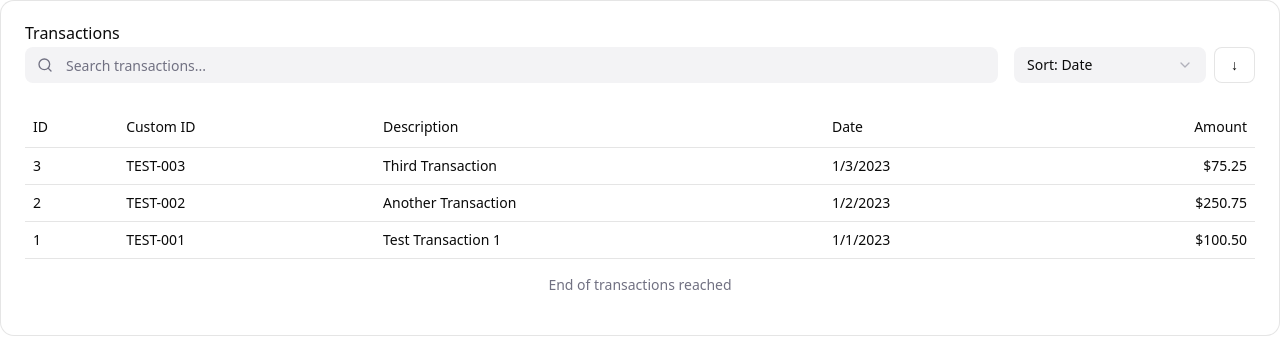
Scenario: TransactionTable › shows "no matches" message when search yields no results
Type "nonexistent" into the field with placeholder "Search transactions..." at (512, 65), box [25,47,998,83]
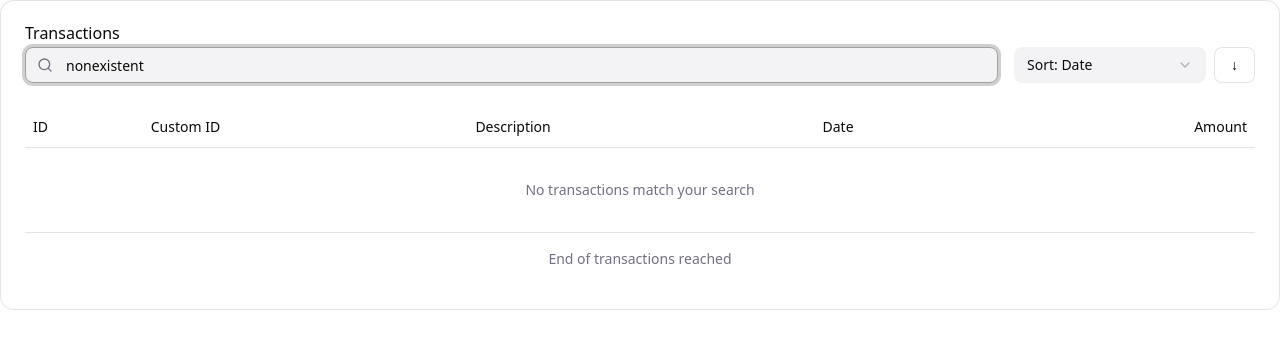
Now the text "No transactions match your search" is shown, box [25,147,1255,232]
